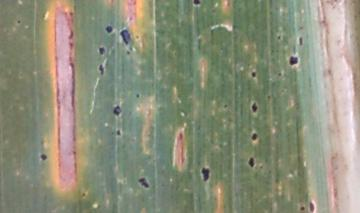tarspot: (117, 27, 136, 47), (197, 163, 214, 185), (287, 50, 301, 72), (136, 174, 151, 191), (243, 154, 258, 171), (110, 102, 125, 119), (248, 100, 261, 116), (94, 62, 107, 77), (95, 43, 108, 57), (249, 129, 261, 144), (188, 1, 206, 10), (104, 22, 115, 35), (296, 33, 305, 48), (37, 151, 49, 162), (308, 198, 316, 213), (113, 127, 123, 139), (249, 68, 259, 80), (14, 18, 24, 27), (78, 189, 88, 198), (221, 100, 230, 110), (274, 70, 283, 79), (132, 92, 142, 100), (297, 204, 306, 212), (276, 33, 283, 41), (264, 93, 271, 100)
